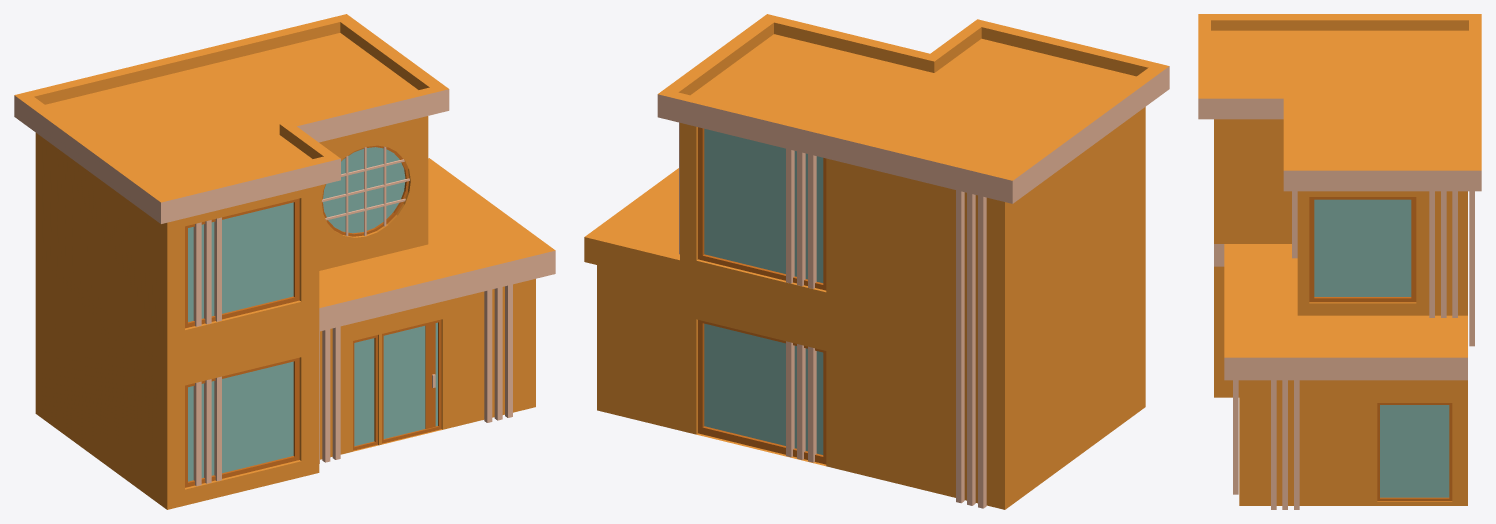
File: house.obj
The picture shows the model from 3 angles, left to right: view 1: azimuth 30°, elevation 25°; view 2: azimuth 150°, elevation 25°; view 3: azimuth 270°, elevation 25°; orthographic projection. The views are drawn at different scales.
Visible parts, largest first — view 1: Object_172, Object_174, Object_175, Object_173; view 2: Object_172, Object_174, Object_175, Object_173; view 3: Object_172, Object_174, Object_175, Object_173.
Boxes of the visible parts, bbox=[...] form: Object_172: bbox=[14, 14, 555, 509]; Object_174: bbox=[14, 89, 555, 486]; Object_175: bbox=[188, 147, 437, 481]; Object_173: bbox=[185, 145, 441, 487]; Object_172: bbox=[584, 14, 1168, 509]; Object_174: bbox=[657, 66, 1169, 508]; Object_175: bbox=[704, 129, 823, 454]; Object_173: bbox=[698, 127, 826, 464]; Object_172: bbox=[1198, 14, 1481, 505]; Object_174: bbox=[1198, 98, 1481, 509]; Object_175: bbox=[1314, 199, 1449, 497]; Object_173: bbox=[1309, 197, 1452, 501].
Bounding box in the file's own units: 8.25 × 6.14 × 5.14.
